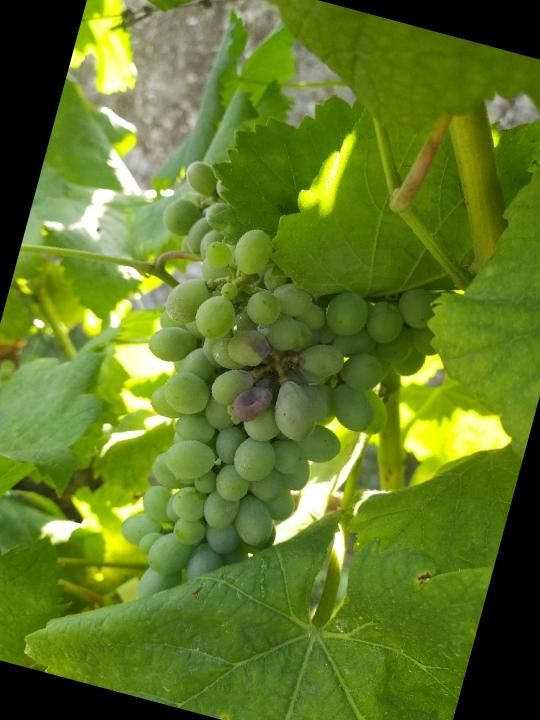grape: (64, 150, 469, 665)
